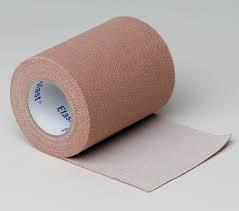bandage: (11, 16, 230, 191)
